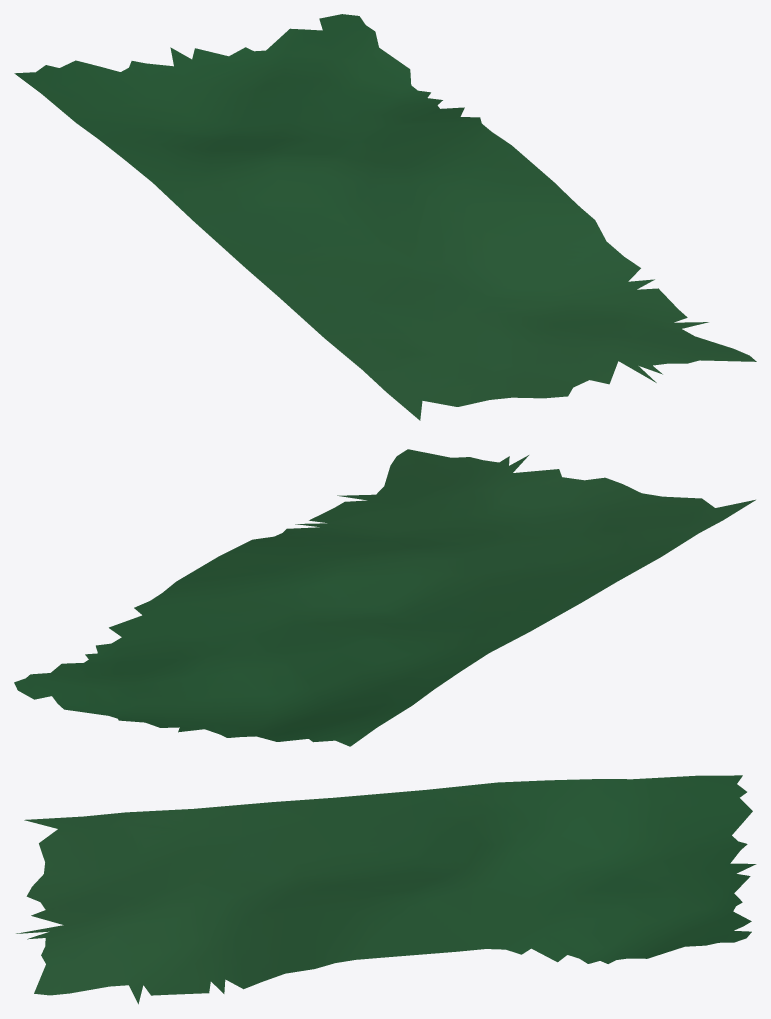
The model's file is payo_land_x4_y5_lod1.glb.
3 renders of one model, top to bottom at view 1: azimuth 30°, elevation 25°; view 2: azimuth 150°, elevation 25°; view 3: azimuth 270°, elevation 25°, orthographic. The views are drawn at different scales.
Parts seen in each view (by area): view 1: payo_land_x4_y5; view 2: payo_land_x4_y5; view 3: payo_land_x4_y5.
Part boxes in pixels (box(x1,y1,x2,y2)): payo_land_x4_y5: box(14, 14, 756, 420); payo_land_x4_y5: box(14, 449, 755, 746); payo_land_x4_y5: box(16, 775, 756, 1004).
Size of the model in its own units: 132 by 30.49 by 271.
